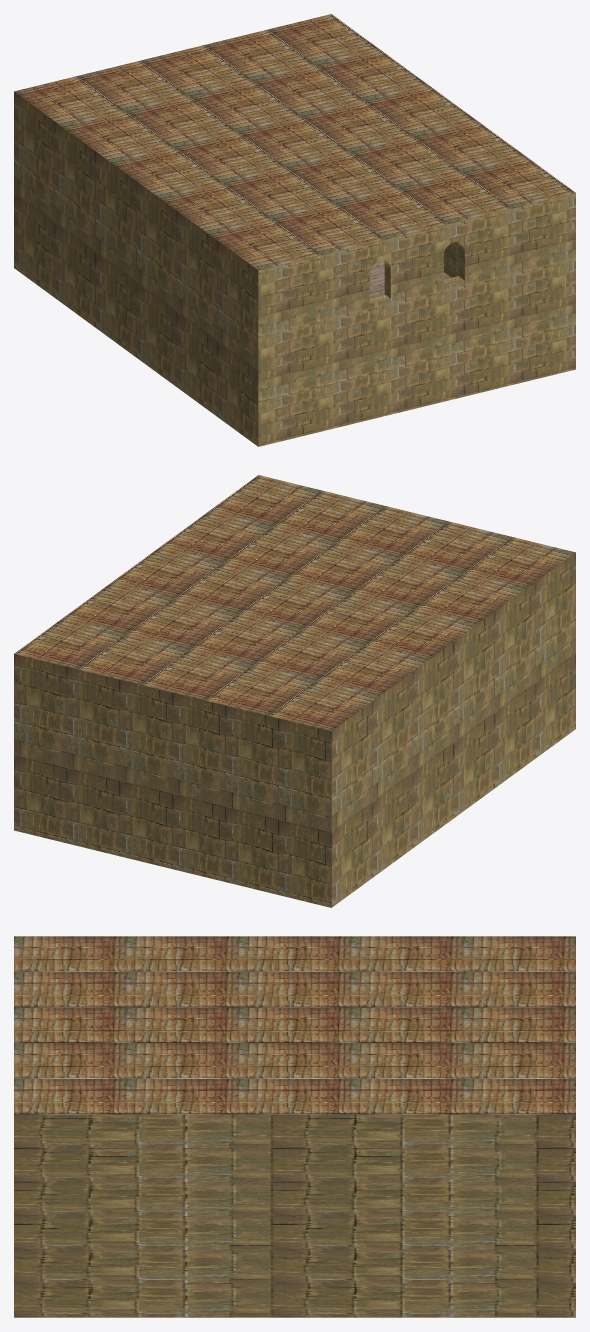
The model's file is room.dae.
3 views of the same model, one above another, from view 1: azimuth 30°, elevation 25°; view 2: azimuth 150°, elevation 25°; view 3: azimuth 270°, elevation 25° (orthographic). The views are drawn at different scales.
Parts seen in each view (by area): view 1: Room; view 2: Room; view 3: Room.
Part boxes in pixels (x1,y1,x2,y2): Room: (14, 14, 575, 446); Room: (14, 475, 575, 907); Room: (14, 936, 575, 1317).
Bounding box in the file's own units: 30 × 40 × 15.94.
